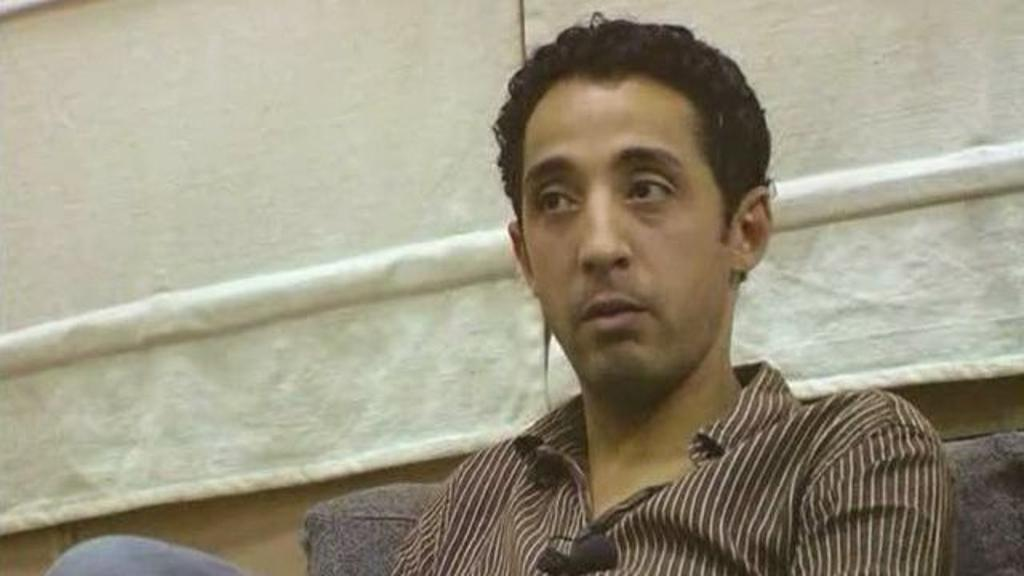face: (516, 86, 712, 390)
